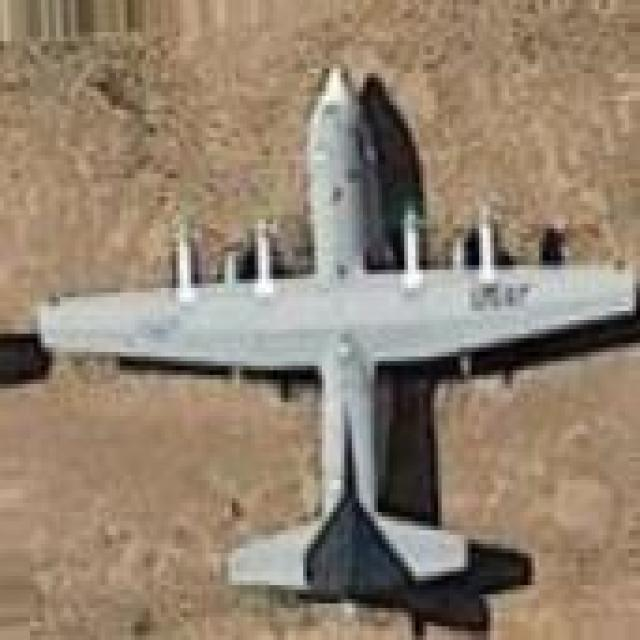C-130_TopDown: (29, 61, 640, 614)
